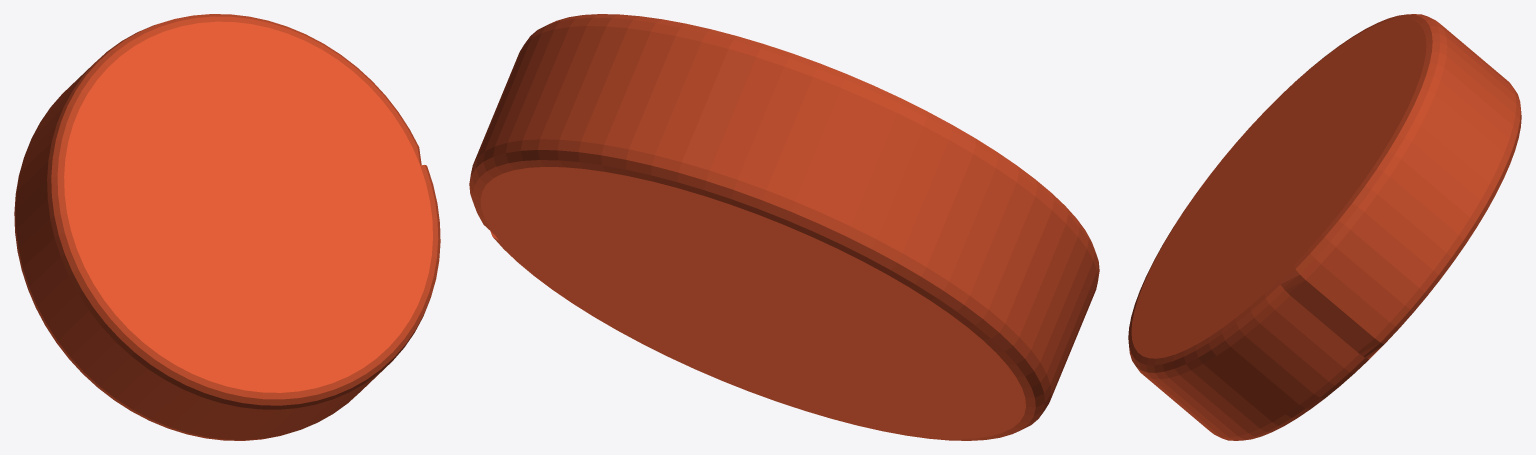
3 renders of one model, left to right at view 1: azimuth 30°, elevation 25°; view 2: azimuth 150°, elevation 25°; view 3: azimuth 270°, elevation 25°, orthographic. The views are drawn at different scales.
Size of the model in its own units: 1.17 by 1.04 by 1.
